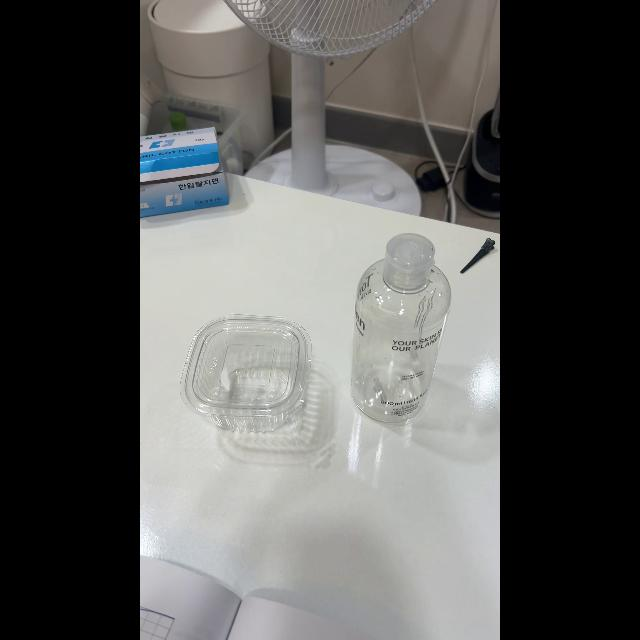clean: (351, 235, 451, 420), (191, 321, 319, 435)
